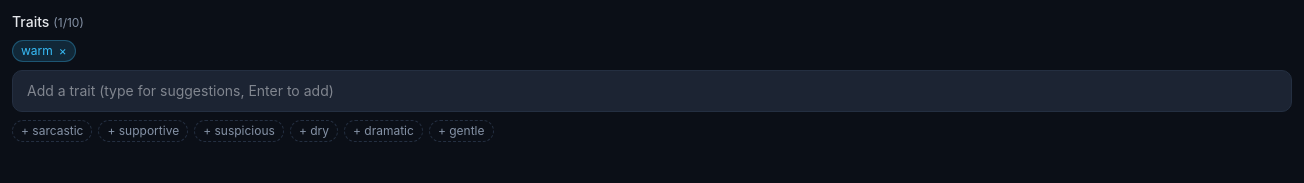
it: TraitInput › rejects duplicates
The image size is (1304, 183).
Type "warm" into the dropdown with placeholder "Add a trait (type for suggestions, Enter to add)".
click(652, 91); type("warm")  # box [12, 70, 1292, 112]
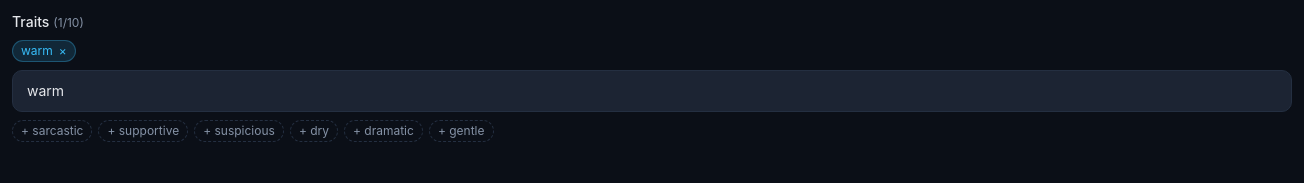
Press Enter in the dropdown with placeholder "Add a trait (type for suggestions, Enter to add)", box [12, 70, 1292, 112]
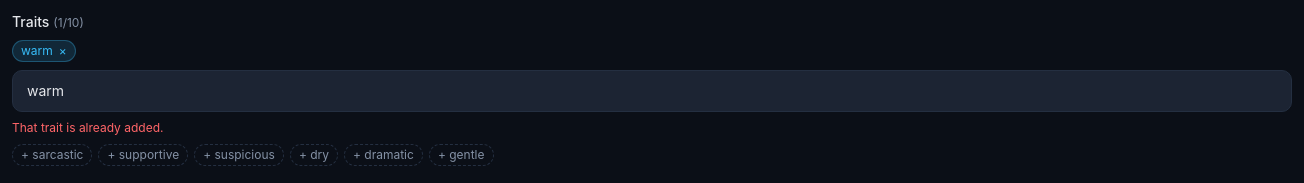
Expected: the text "That trait is already added." is shown, [12, 120, 164, 135]
